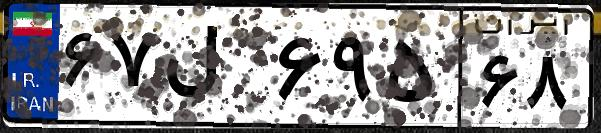5: (385, 28, 445, 110)
6: (270, 28, 330, 110), (57, 26, 110, 100), (475, 38, 525, 113)
7: (110, 28, 158, 98)
8: (525, 38, 570, 115)
9: (330, 28, 385, 110)
ل: (158, 20, 270, 120)
